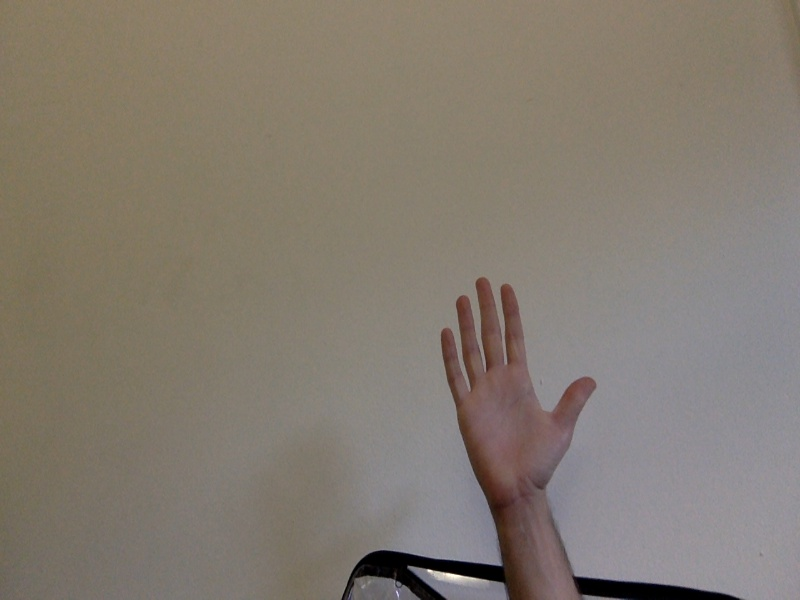5-hand: (442, 279, 597, 509)
